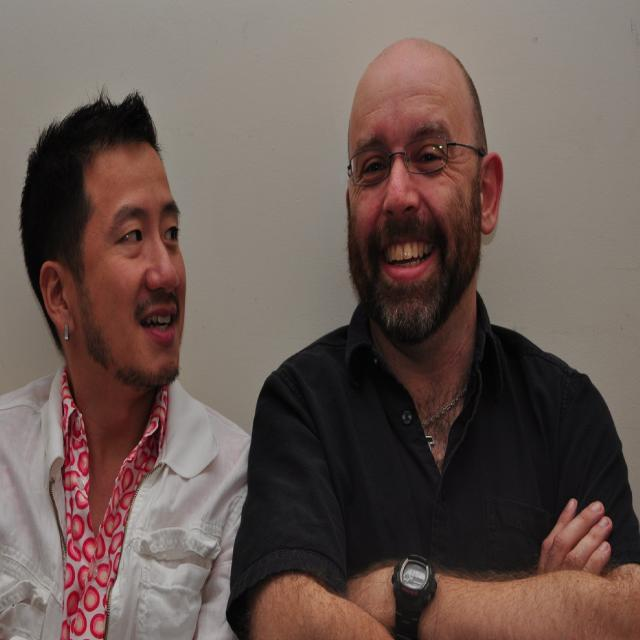Glasses: (348, 144, 486, 190)
